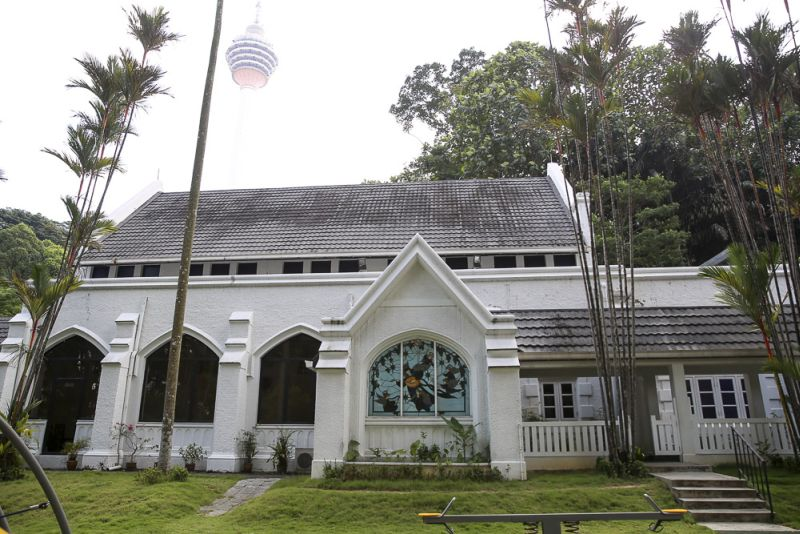Church: (32, 137, 635, 430)
